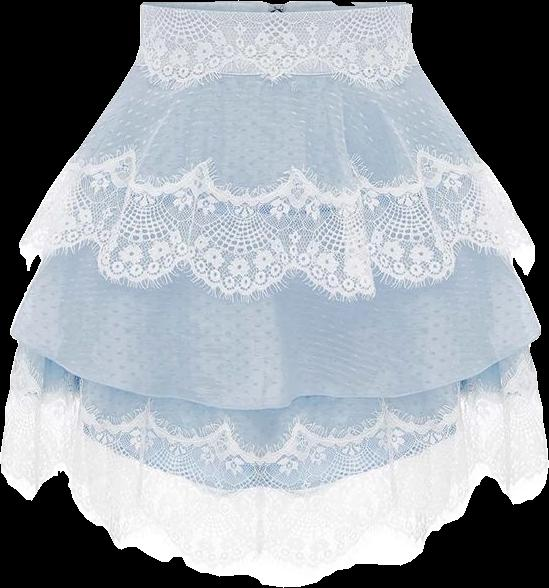Hemline: (0, 466, 548, 587), (8, 328, 543, 413), (17, 237, 537, 300)
Waistline: (133, 57, 422, 79), (138, 0, 410, 18)
